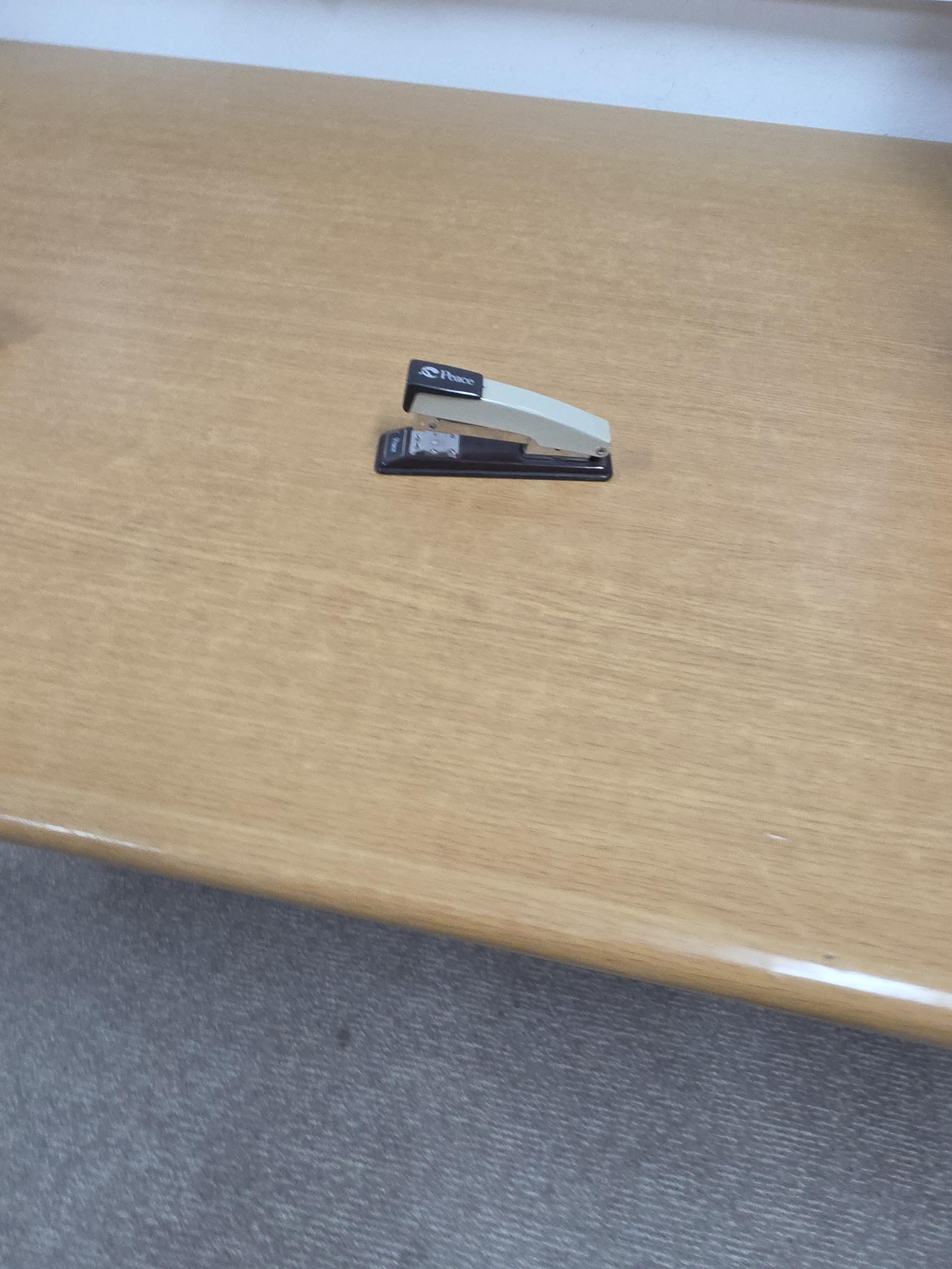stapler: (374, 359, 614, 482)
